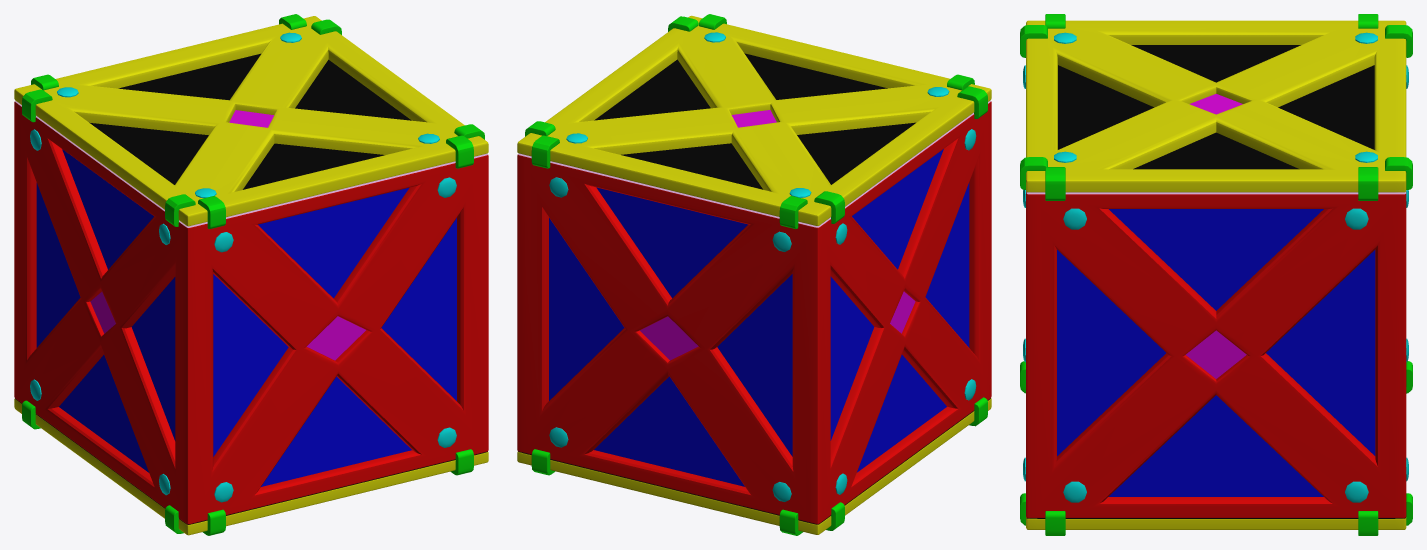
File: Sci-fi_Crate.fbx
3 views of the same model, side by side, from view 1: azimuth 30°, elevation 25°; view 2: azimuth 150°, elevation 25°; view 3: azimuth 270°, elevation 25° (orthographic). The views are drawn at different scales.
Parts seen in each view (by area): view 1: Sci_fi_Crate; view 2: Sci_fi_Crate; view 3: Sci_fi_Crate.
Boxes of the visible parts, x1,y1,x2,y2 form: Sci_fi_Crate: (14,14,488,535); Sci_fi_Crate: (517,14,991,535); Sci_fi_Crate: (1020,14,1412,535).
Bounding box in the file's own units: 114 × 116 × 114.
